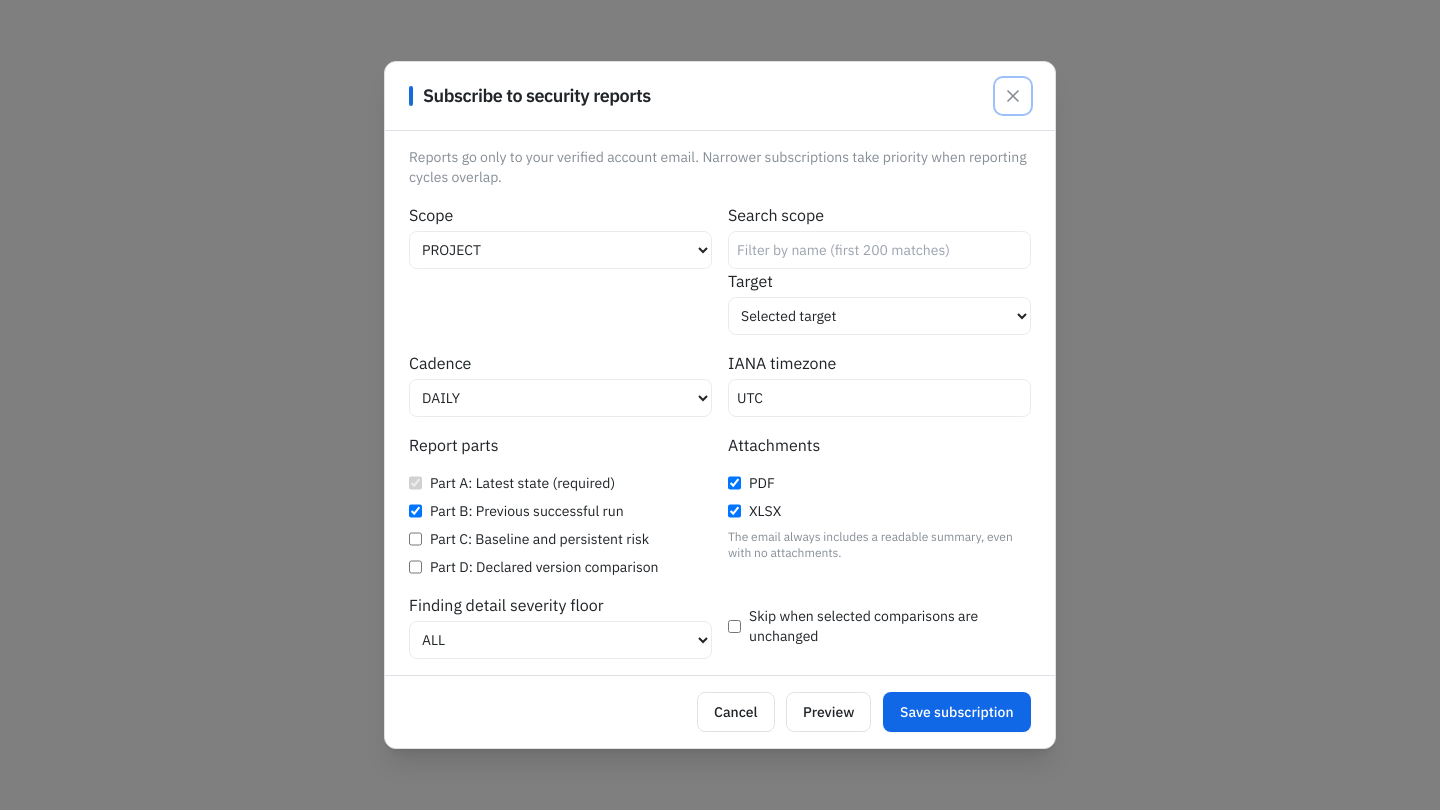
Test case: Notification preferences › surfaces save failures and leaves the editor open
Click the button "Save subscription" at (957, 712), box x1=884 y1=692 x2=1031 y2=732
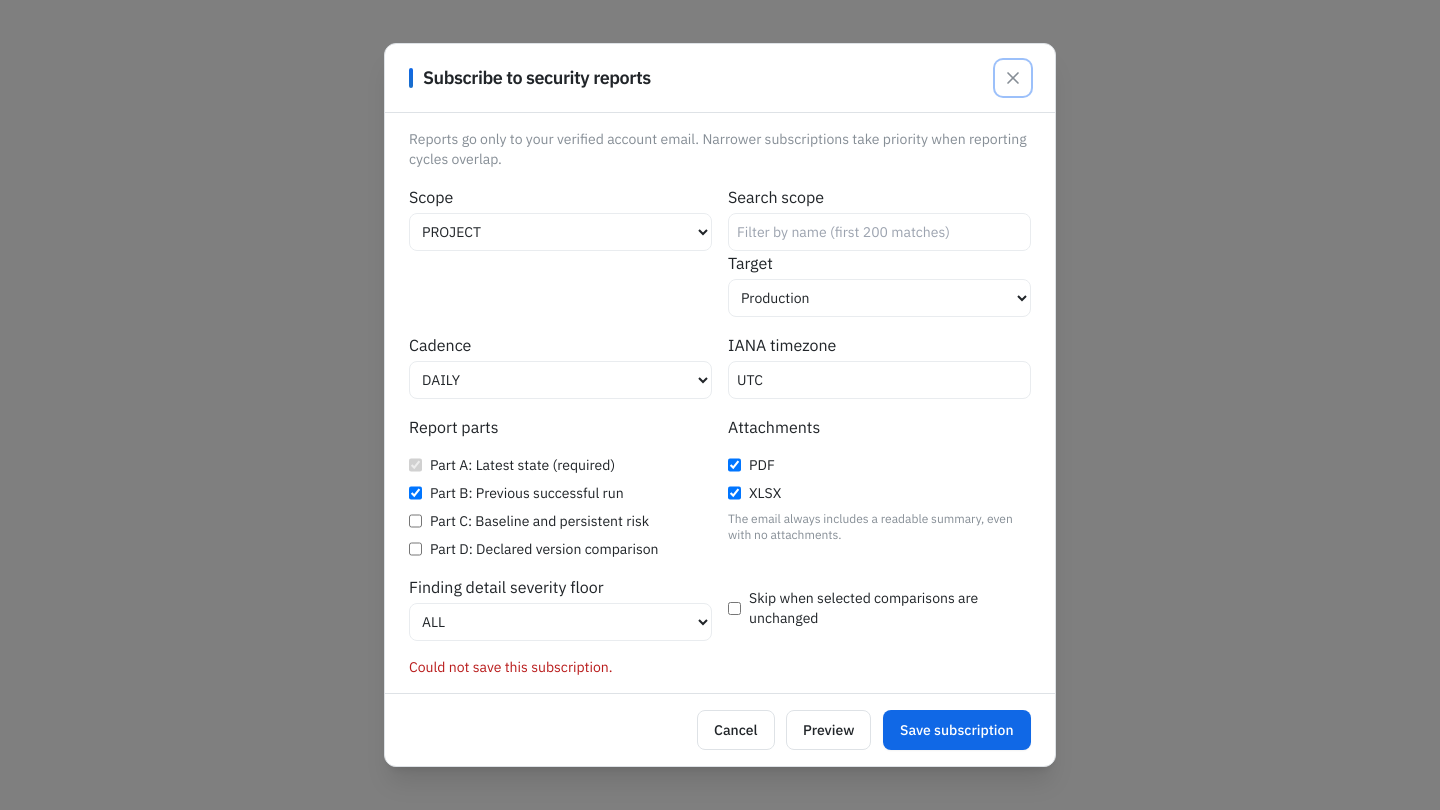
Expected: the button "Save subscription" is shown, x1=884 y1=710 x2=1031 y2=750
Expected: the message reads "Could not save this subscription.", x1=409 y1=658 x2=613 y2=676
